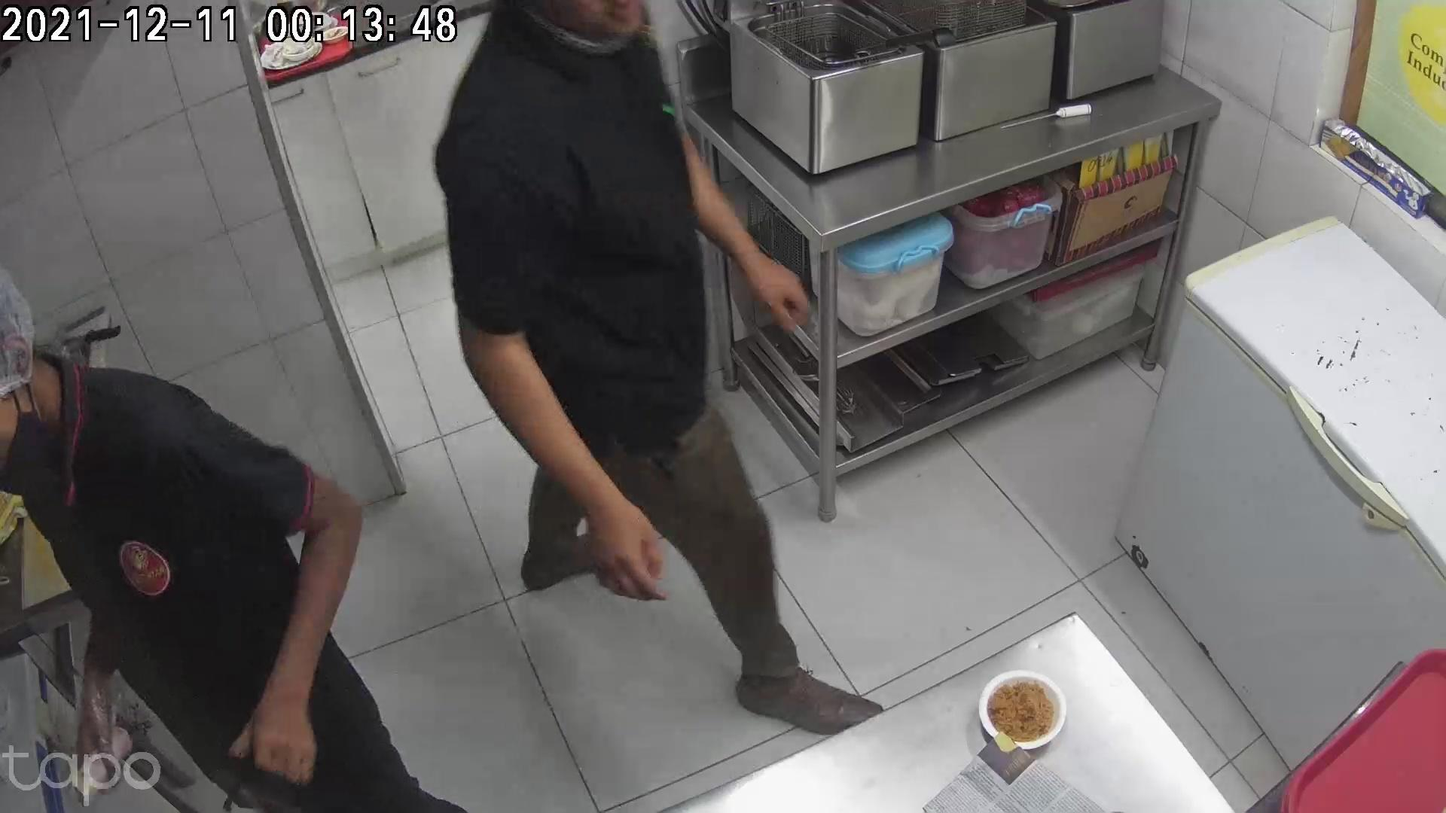no_gloves: (568, 483, 663, 601)
